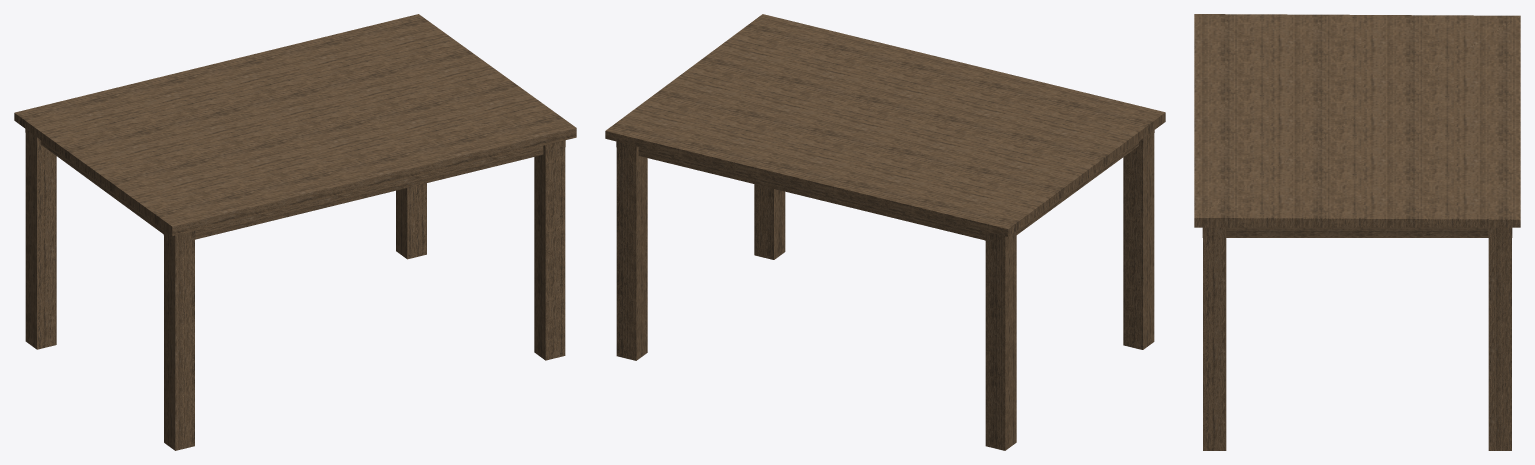
Rendered from Tisch.fbx.
3 views of the same model, side by side, from view 1: azimuth 30°, elevation 25°; view 2: azimuth 150°, elevation 25°; view 3: azimuth 270°, elevation 25° (orthographic). The views are drawn at different scales.
Parts seen in each view (by area): view 1: Tisch; view 2: Tisch; view 3: Tisch.
Part boxes in pixels (bbox=[...]): Tisch: bbox=[14, 14, 576, 450]; Tisch: bbox=[605, 14, 1165, 450]; Tisch: bbox=[1194, 14, 1520, 450].
Size of the model in its own units: 1.48 by 0.8 by 1.
